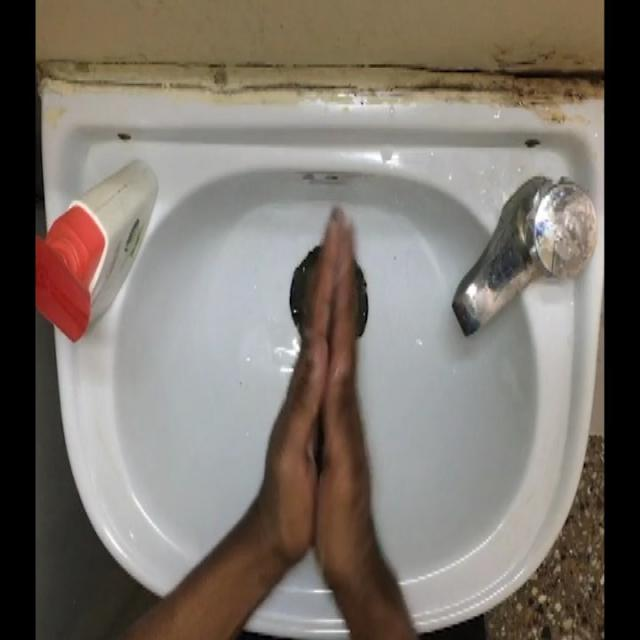step_1: (259, 198, 382, 554)
